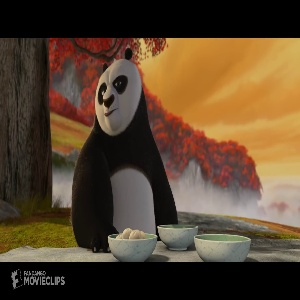po: (68, 46, 182, 253)
